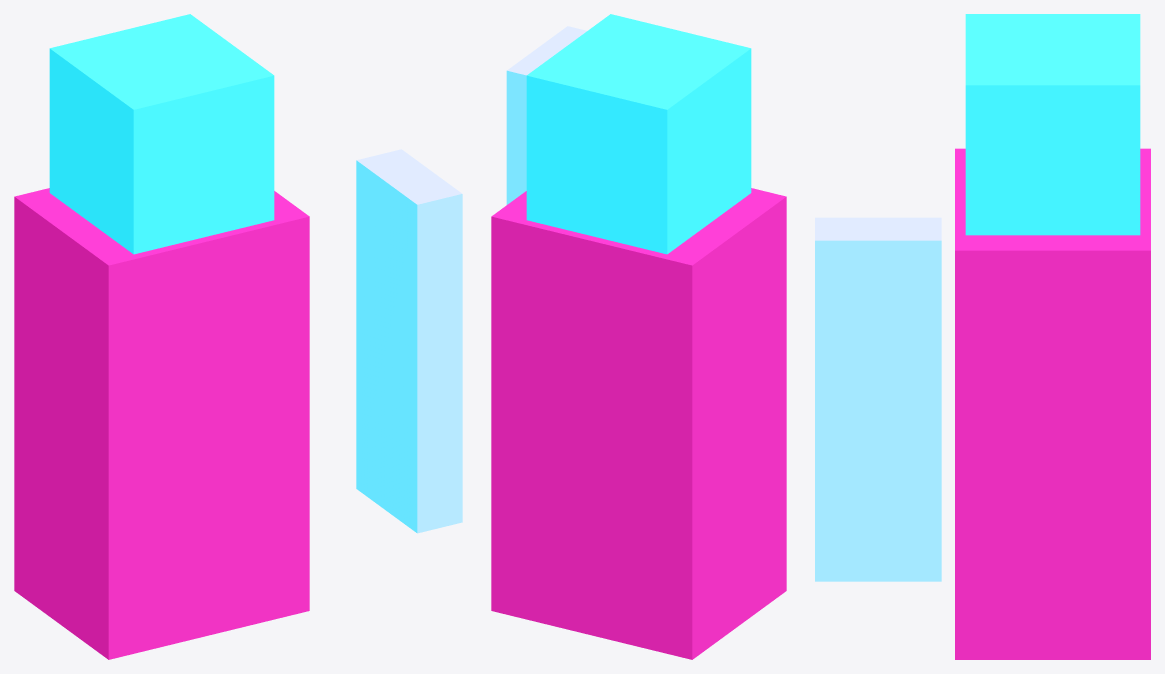
Rendered from hero_cazadora.glb.
The picture shows the model from 3 angles, left to right: view 1: azimuth 30°, elevation 25°; view 2: azimuth 150°, elevation 25°; view 3: azimuth 270°, elevation 25°; orthographic projection. The views are drawn at different scales.
Parts seen in each view (by area): view 1: Torso, Head, Weapon; view 2: Torso, Head, Weapon; view 3: Torso, Weapon, Head.
Part boxes in pixels (<box>): Torso: <box>14,188,309,659</box>; Head: <box>49,14,274,254</box>; Weapon: <box>356,149,462,533</box>; Torso: <box>491,188,786,659</box>; Head: <box>526,14,751,254</box>; Weapon: <box>506,26,586,204</box>; Torso: <box>955,148,1150,659</box>; Weapon: <box>815,217,941,581</box>; Head: <box>965,14,1140,235</box>.
Bounding box in the file's own units: 1.14 × 2.05 × 1.11.
